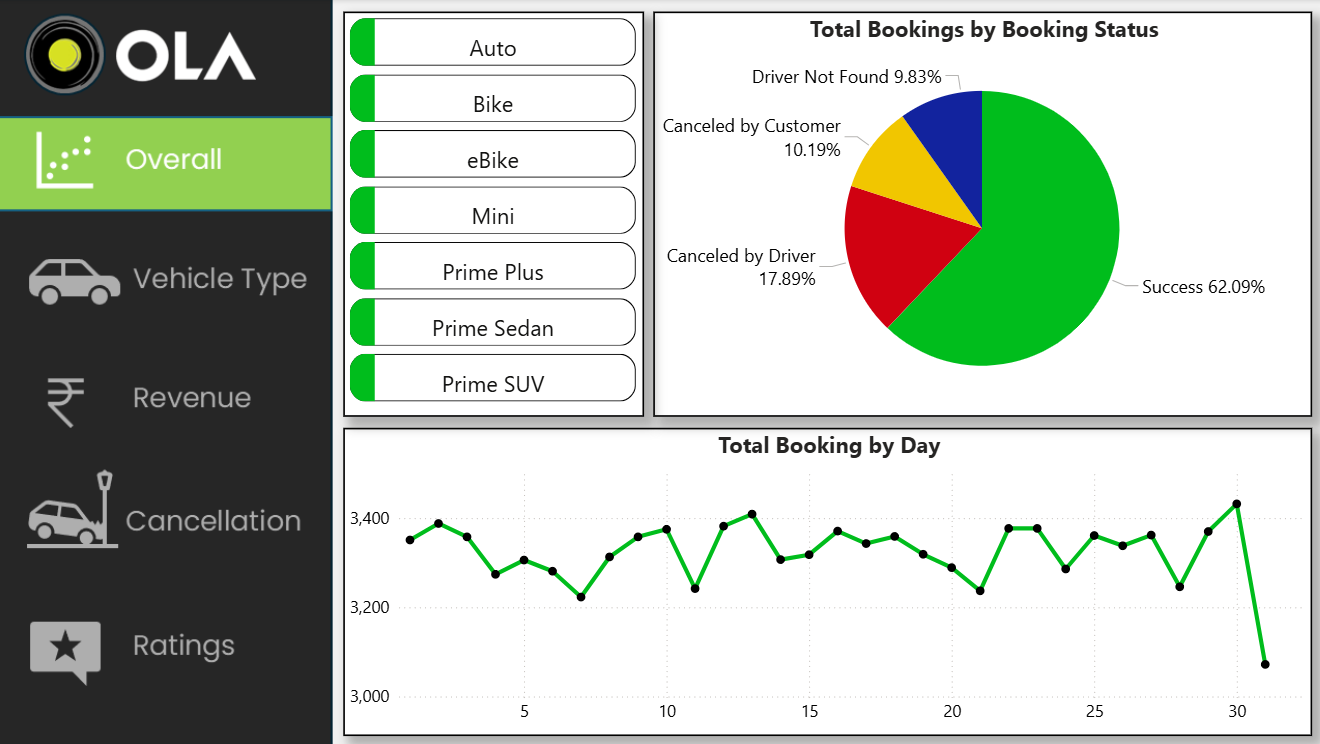

The page's visual inventory and layout, read from the dashboard file:
{"tool":"powerbi","page":{"name":"Overall","canvas":[1280,720],"ordinal":0},"visuals":[{"type":"actionButton","box":[0,224.4,326.9,91.7],"z":0},{"type":"actionButton","box":[0,343.8,326.9,91.7],"z":1000},{"type":"actionButton","box":[0,580.3,326.9,91.7],"z":2000},{"type":"actionButton","box":[0,458.4,326.9,91.7],"z":3000},{"type":"lineChart","fields":{"Y":["CountNonNull(Bookings.Booking_ID)"],"Category":["Bookings.Date.Variation.Date Hierarchy.Day"]},"box":[334.2,413.8,935,298],"z":4000},{"type":"pieChart","fields":{"Category":["Bookings.Booking_Status"],"Y":["CountNonNull(Bookings.Booking_ID)"]},"box":[633.4,12.1,635.8,390.9],"z":5000},{"type":"advancedSlicerVisual","fields":{"Values":["Bookings.Vehicle_Type"]},"box":[334.2,12.1,290.8,390.9],"z":6000}]}

Visuals, with their boxes in screenshot pixels (x1, y1, x2, y2), scaled from the page's 1280x720 canvas onto the 1320x744 screenshot:
actionButton: (left=0, top=232, right=337, bottom=327)
actionButton: (left=0, top=355, right=337, bottom=450)
actionButton: (left=0, top=600, right=337, bottom=694)
actionButton: (left=0, top=474, right=337, bottom=568)
lineChart - CountNonNull(Bookings.Booking_ID) x Bookings.Date.Variation.Date Hierarchy.Day: (left=345, top=428, right=1309, bottom=736)
pieChart - Bookings.Booking_Status x CountNonNull(Bookings.Booking_ID): (left=653, top=13, right=1309, bottom=416)
advancedSlicerVisual - Bookings.Vehicle_Type: (left=345, top=13, right=645, bottom=416)
